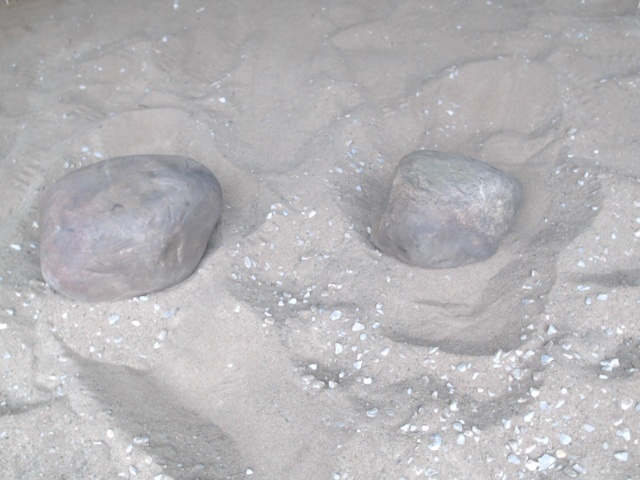rock: (33, 148, 227, 309), (355, 143, 527, 276)
